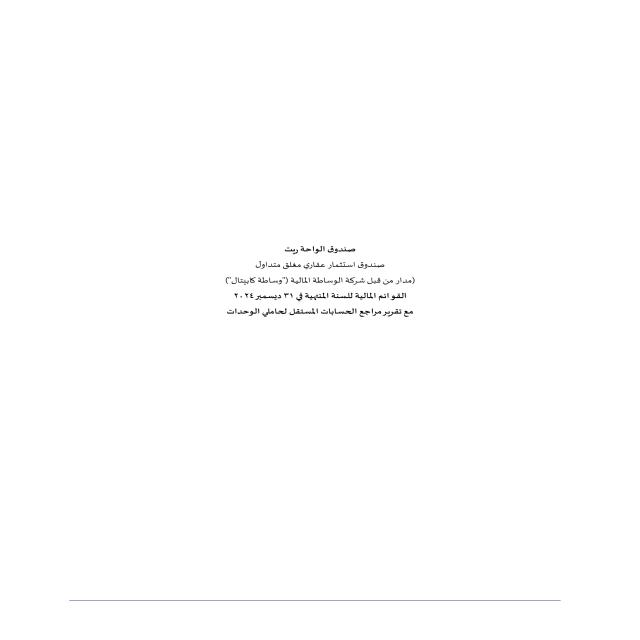other: (154, 169, 453, 409)
